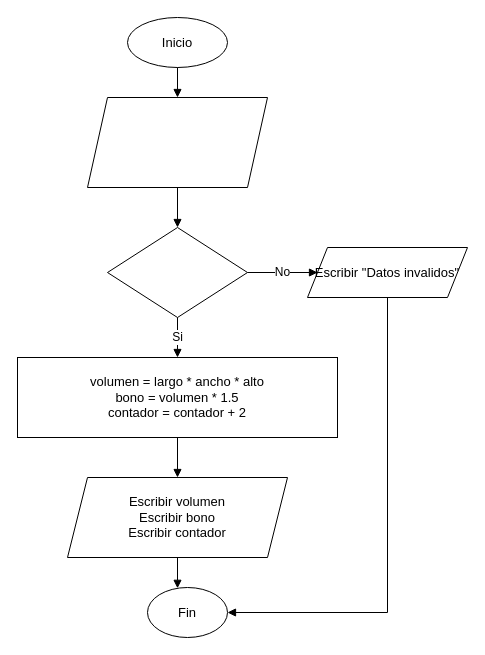
Image size: 485x655. Some labels were removed from this diagram. Each missing label, with the box of its shape:
largo > 0 y ancho > 0 y alto > 0: (106, 226, 248, 318)
Leer largo Leer ancho Leer alto: (86, 96, 268, 188)
